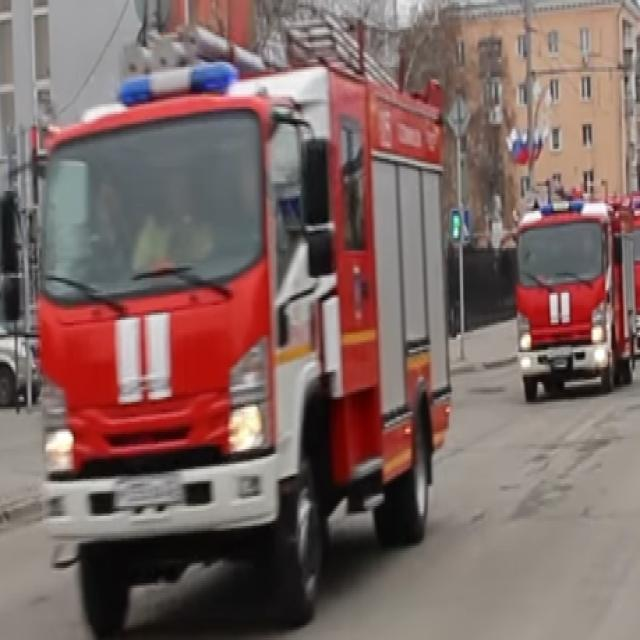fire fighting vehicle: (36, 54, 448, 640), (517, 197, 630, 405)
